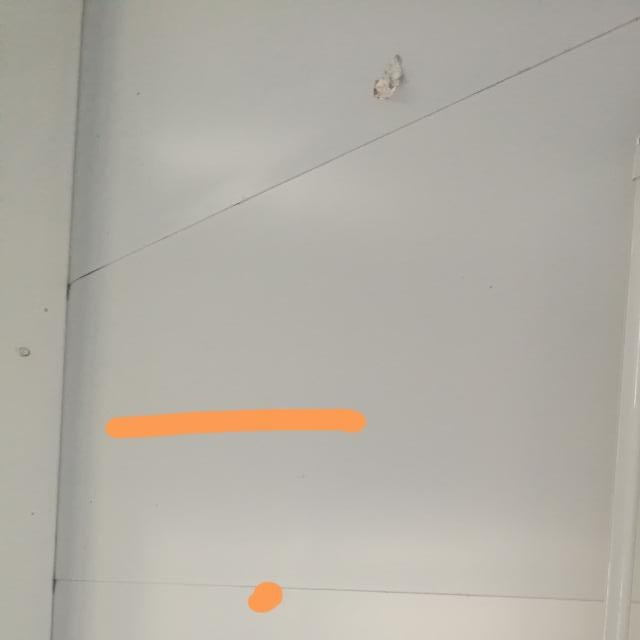fluorescent tube: (527, 95, 640, 640)
